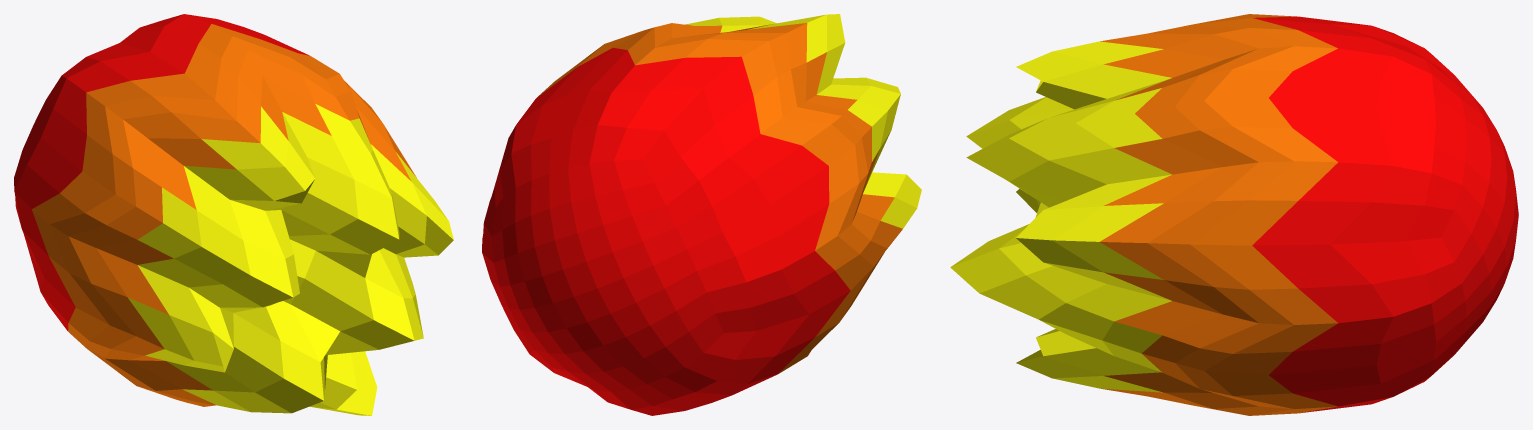
File: Fireball.fbx
The picture shows the model from 3 angles, left to right: view 1: azimuth 30°, elevation 25°; view 2: azimuth 150°, elevation 25°; view 3: azimuth 270°, elevation 25°; orthographic projection. The views are drawn at different scales.
Visible parts, largest first — view 1: Roundcube.001; view 2: Roundcube.001; view 3: Roundcube.001.
Part boxes in pixels (bbox=[...]): Roundcube.001: bbox=[14, 14, 453, 415]; Roundcube.001: bbox=[482, 14, 921, 415]; Roundcube.001: bbox=[950, 14, 1518, 415].
Bounding box in the file's own units: 224 × 224 × 317.
